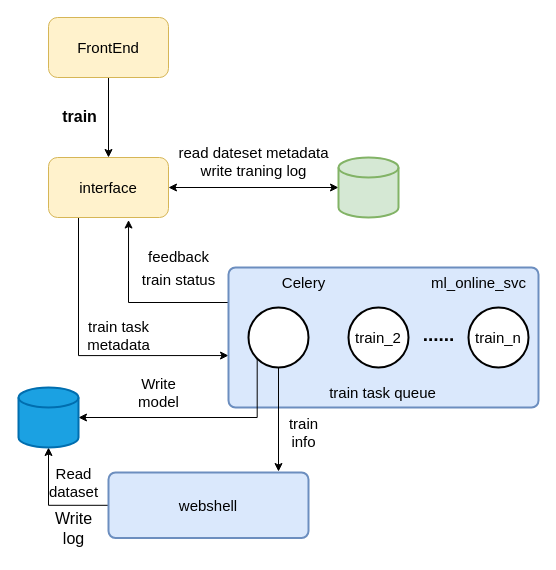
Some shapes in this 556 by 570 pixel diagram are drawn without their labels. The centre of each missing label's shape, as x and y in pixels:
MinIO: the point at 48,417
sqlite: the point at 368,187
train_1: the point at 278,337
